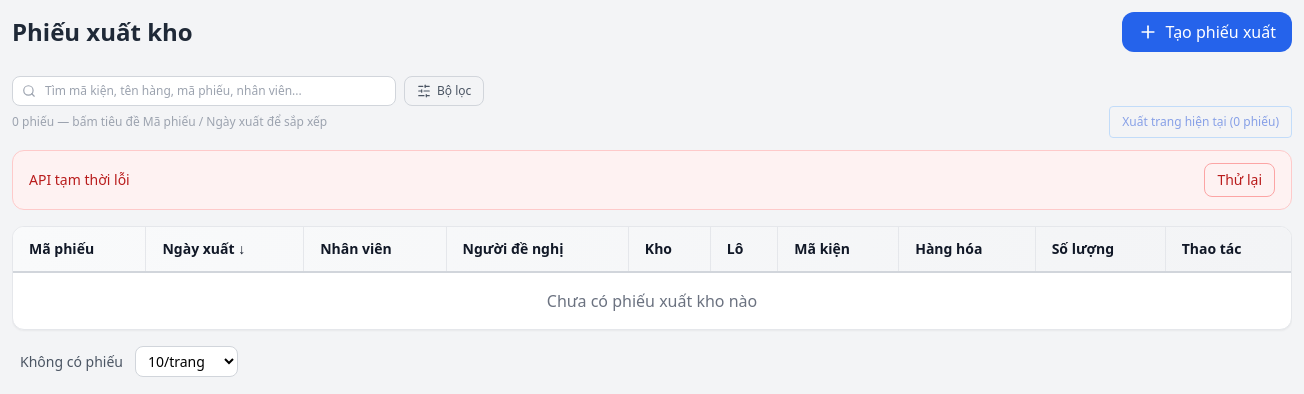
Test: warehouse slip tabs › shows the issue retry action after a refresh failure, then recovers on retry
The image size is (1304, 394).
Expected: the message shows "API tạm thời lỗi", [29,170,130,189]
What coordinates should you click on to do the following:
click the button "Thử lại"
I would click on:
 (1240, 180)
Its box is [1204,163,1275,197].
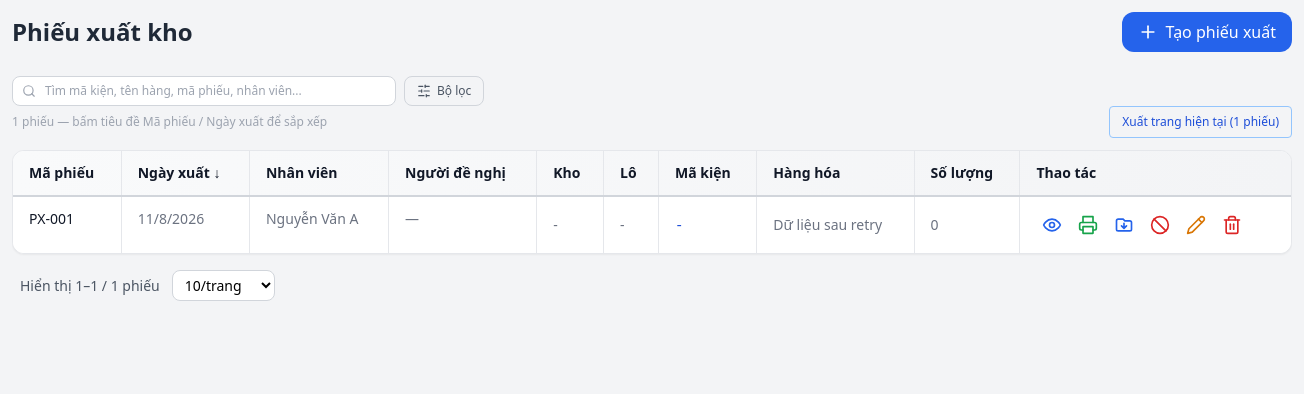
Expected: the message "API tạm thời lỗi Thử lại" is gone
